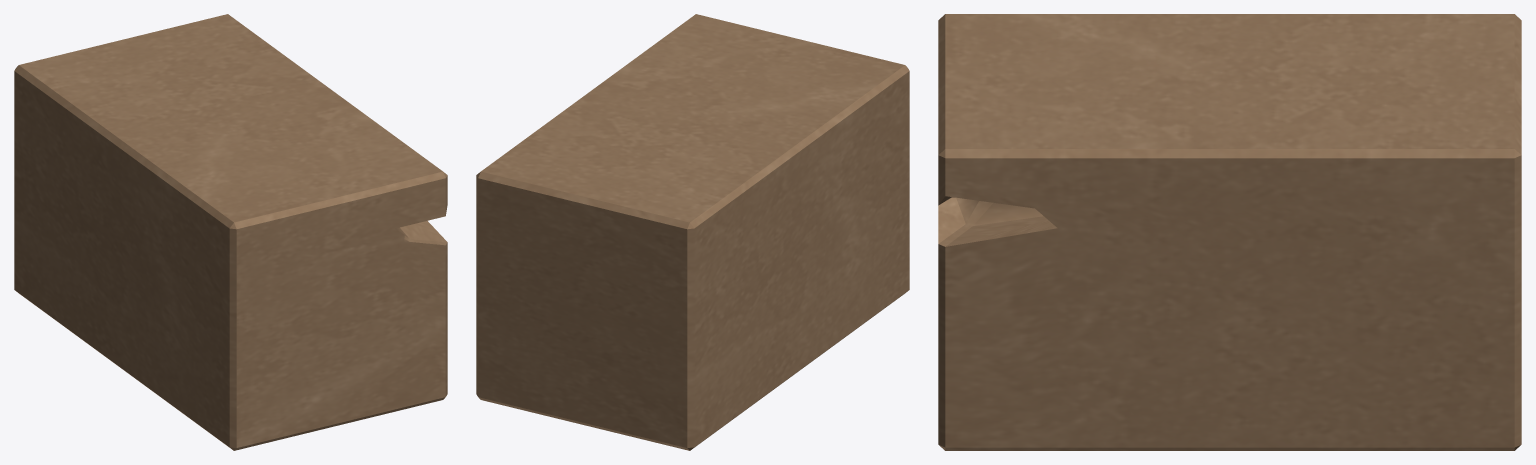
File: Brick_Cracked_v1.FBX
3 views of the same model, side by side, from view 1: azimuth 30°, elevation 25°; view 2: azimuth 150°, elevation 25°; view 3: azimuth 270°, elevation 25° (orthographic). The views are drawn at different scales.
Visible parts, largest first — view 1: Brick_002; view 2: Brick_002; view 3: Brick_002.
Part boxes in pixels (left/top/right/bottom): Brick_002: left=14, top=14, right=447, bottom=450; Brick_002: left=476, top=14, right=909, bottom=450; Brick_002: left=938, top=14, right=1521, bottom=450.
Bounding box in the file's own units: 24 × 24 × 42.
